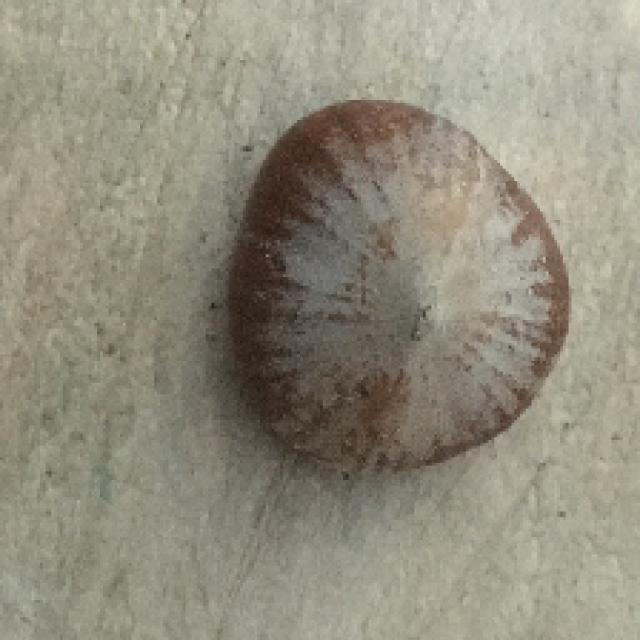qualityHazelnut: (228, 85, 570, 491)
